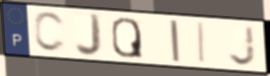C: (32, 10, 68, 54)
I: (168, 18, 183, 63), (197, 21, 208, 65)
J: (74, 11, 104, 59), (226, 24, 258, 68)
Q: (110, 16, 145, 60)
